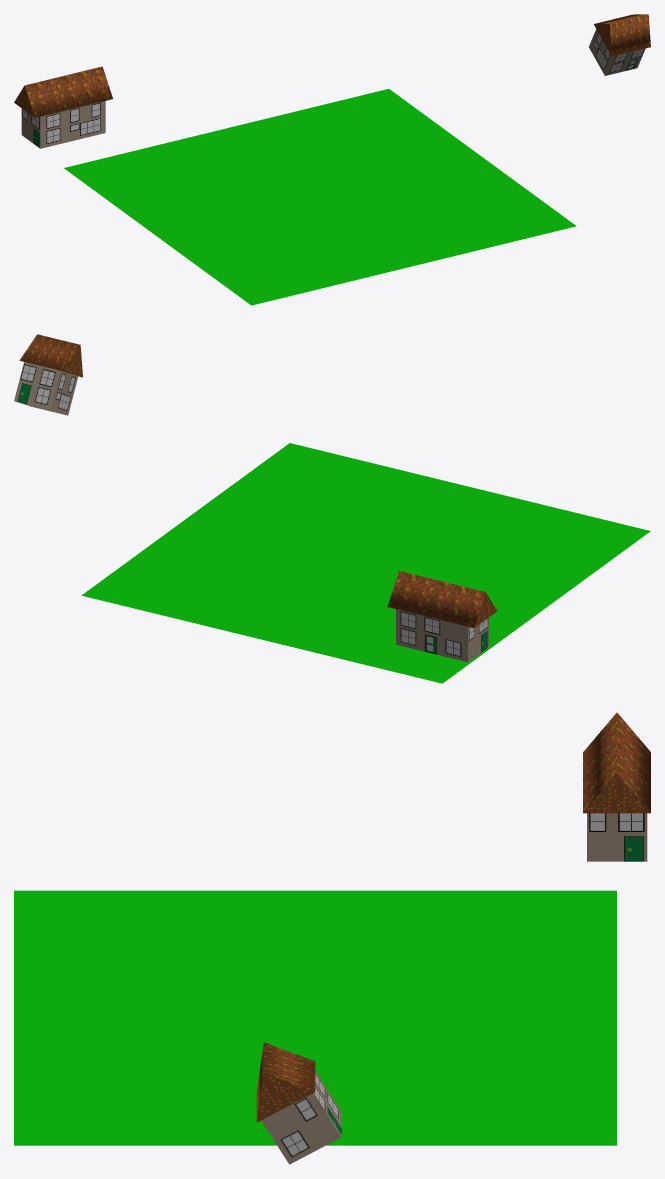
The model's file is two_houses.glb.
The picture shows the model from 3 angles, top to bottom: view 1: azimuth 30°, elevation 25°; view 2: azimuth 150°, elevation 25°; view 3: azimuth 270°, elevation 25°; orthographic projection. The views are drawn at different scales.
Visible parts, largest first — view 1: floor, bighouse, tinyhouse; view 2: floor, bighouse, tinyhouse; view 3: floor, bighouse, tinyhouse.
Part boxes in pixels (x1=…): floor: x1=64, y1=89, x2=576, y2=305; bighouse: x1=14, y1=66, x2=112, y2=148; tinyhouse: x1=589, y1=14, x2=650, y2=75; floor: x1=81, y1=443, x2=650, y2=683; bighouse: x1=387, y1=571, x2=497, y2=662; tinyhouse: x1=14, y1=334, x2=82, y2=415; floor: x1=14, y1=890, x2=616, y2=1145; bighouse: x1=583, y1=712, x2=650, y2=861; tinyhouse: x1=256, y1=1042, x2=341, y2=1164.
Size of the model in its own units: 15.8 by 3.48 by 10.56.
Materials: 3 (2 with a texture image).
